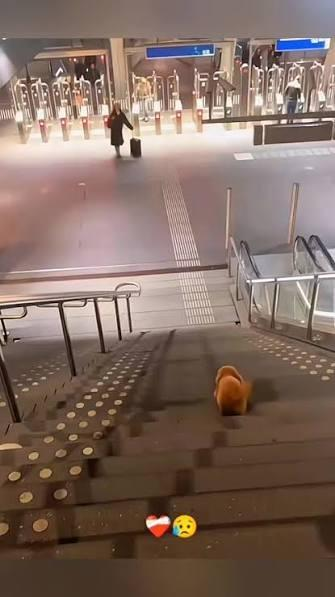adult_dog: (213, 365, 253, 416)
